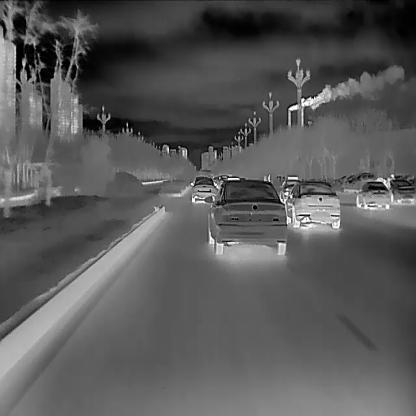car: (205, 179, 287, 255), (283, 182, 340, 228), (352, 180, 392, 209), (190, 176, 217, 205), (387, 177, 413, 203)
